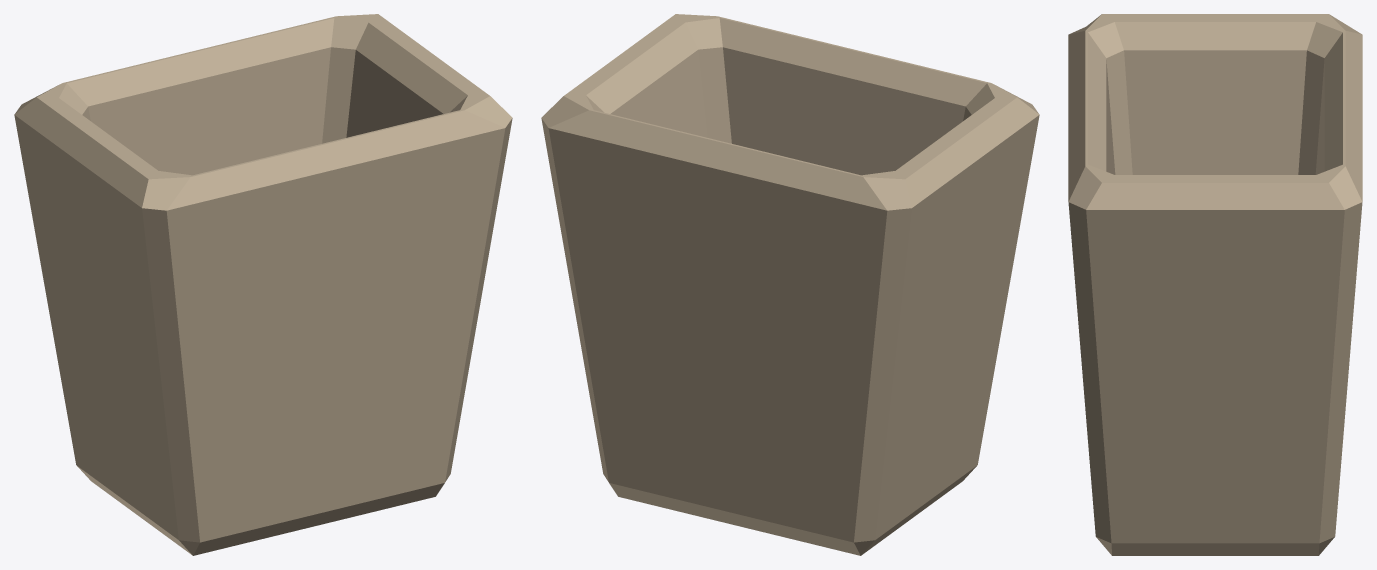
Rendered from Bin.fbx.
The picture shows the model from 3 angles, left to right: view 1: azimuth 30°, elevation 25°; view 2: azimuth 150°, elevation 25°; view 3: azimuth 270°, elevation 25°; orthographic projection.
Parts seen in each view (by area): view 1: Cube; view 2: Cube; view 3: Cube.
Part boxes in pixels (x1,y1,x2,y2): Cube: [14, 14, 512, 555]; Cube: [541, 14, 1039, 555]; Cube: [1068, 14, 1362, 555].
Size of the model in its own units: 506 by 343 by 512.
